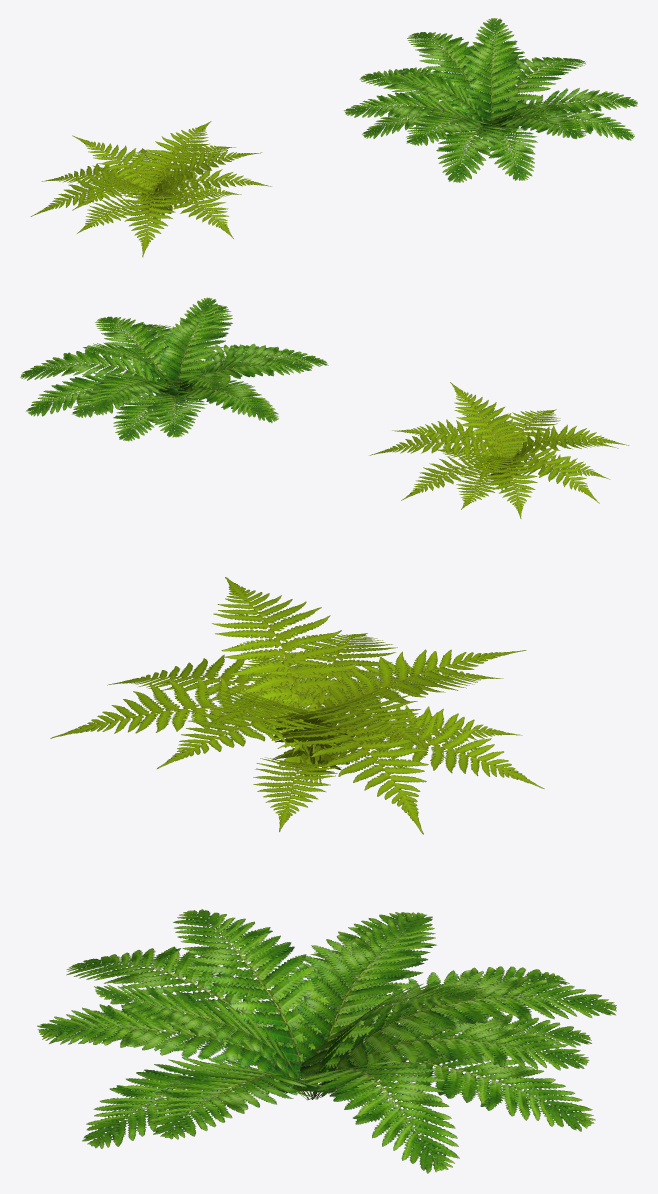
The model's file is ferns.glb.
The picture shows the model from 3 angles, top to bottom: view 1: azimuth 30°, elevation 25°; view 2: azimuth 150°, elevation 25°; view 3: azimuth 270°, elevation 25°; orthographic projection. The views are drawn at different scales.
Visible parts, largest first — view 1: Temperate_Forest_Fern_Cluster_1, Woodland_Sword_Fern_Modular_0; view 2: Temperate_Forest_Fern_Cluster_1, Woodland_Sword_Fern_Modular_0; view 3: Temperate_Forest_Fern_Cluster_1, Woodland_Sword_Fern_Modular_0.
Part boxes in pixels (x1,y1,x2,y2): Temperate_Forest_Fern_Cluster_1: (344,18,637,182); Woodland_Sword_Fern_Modular_0: (30,121,271,257); Temperate_Forest_Fern_Cluster_1: (20,297,328,441); Woodland_Sword_Fern_Modular_0: (369,382,629,518); Temperate_Forest_Fern_Cluster_1: (37,909,616,1173); Woodland_Sword_Fern_Modular_0: (50,577,544,834).
Size of the model in its own units: 2.34 by 0.3096 by 1.06.
Materials: 2 (2 with a texture image).
